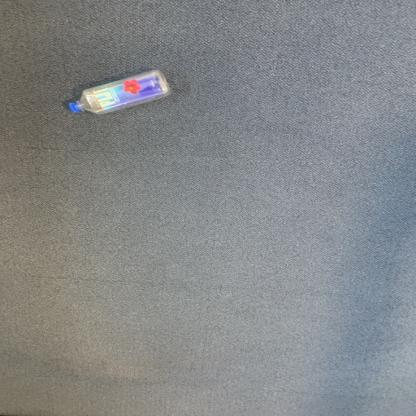trash: (64, 70, 174, 118)
